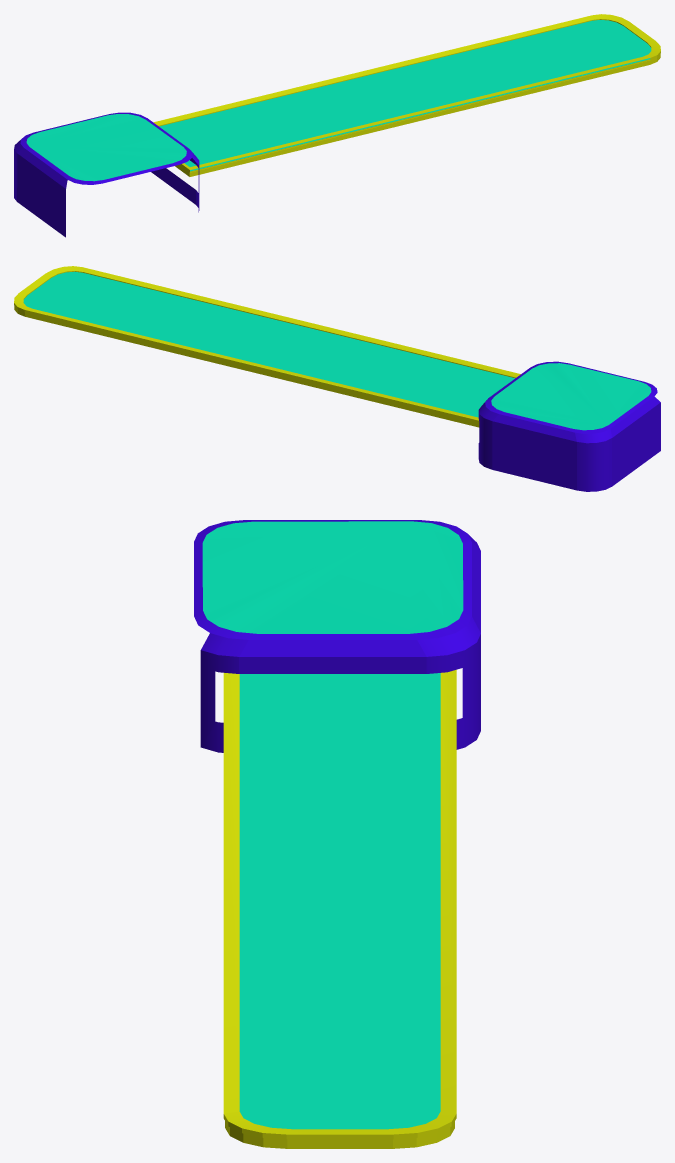
The model's file is Belt.fbx.
3 renders of one model, top to bottom at view 1: azimuth 30°, elevation 25°; view 2: azimuth 150°, elevation 25°; view 3: azimuth 270°, elevation 25°, orthographic. The views are drawn at different scales.
Parts seen in each view (by area): view 1: Cube.044; view 2: Cube.044; view 3: Cube.044.
Boxes of the visible parts, x1,y1,x2,y2 form: Cube.044: (14,14,660,237); Cube.044: (14,266,660,491); Cube.044: (194,520,480,1148).
Bounding box in the file's own units: 1518 × 136 × 313.
